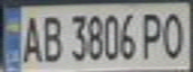0: (103, 10, 121, 61)
3: (66, 10, 87, 63)
6: (118, 9, 142, 61)
8: (84, 10, 106, 62)
A: (18, 11, 45, 65)
B: (39, 11, 66, 64)
O: (160, 7, 190, 60)
P: (139, 9, 169, 61)
